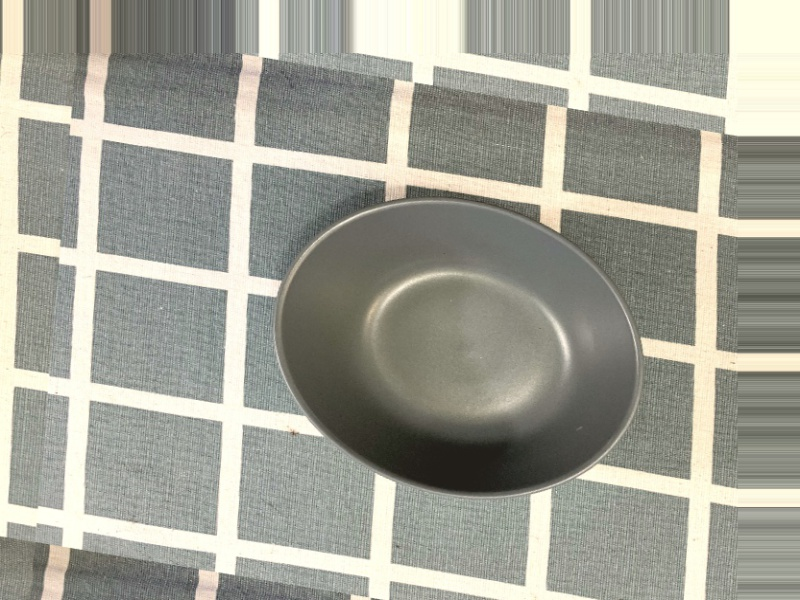bowl_big: (236, 154, 666, 532)
